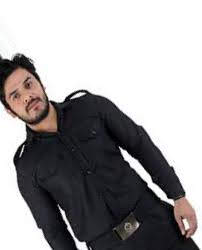uniform: (15, 93, 198, 250)
